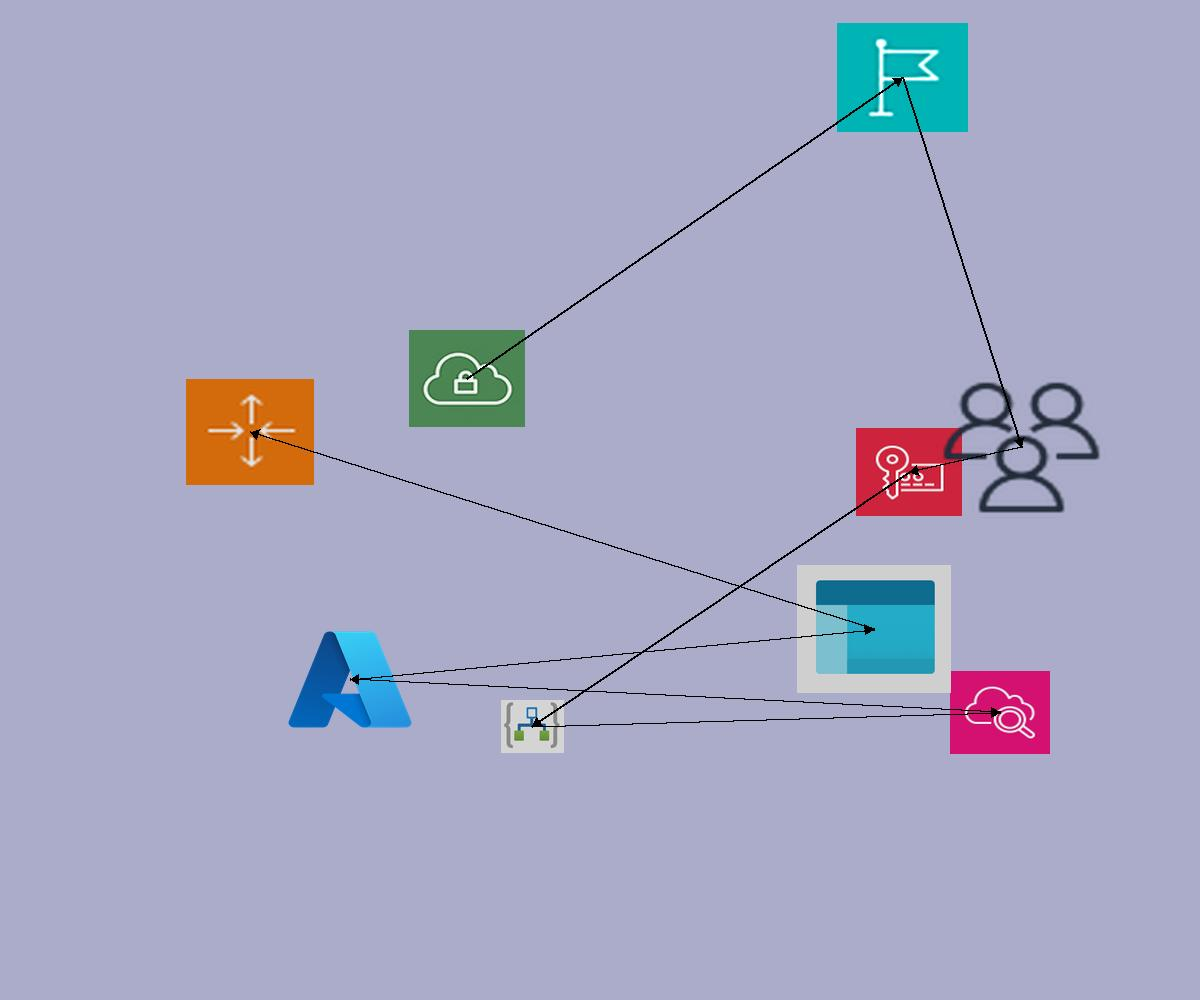AWS-CloudWatch: (950, 671, 1050, 754)
AWS-Key-Management-Service: (856, 428, 962, 516)
AWS-Private_vpc: (409, 330, 525, 427)
AWS-Region: (837, 23, 968, 132)
AWS-Res_Users: (937, 377, 1106, 518)
AWS-Scaling-group: (186, 379, 314, 485)
Azure_integration-204-Logic-Apps: (501, 700, 564, 753)
Azure_management-portal: (797, 565, 951, 693)
Azure_services: (283, 624, 417, 735)
